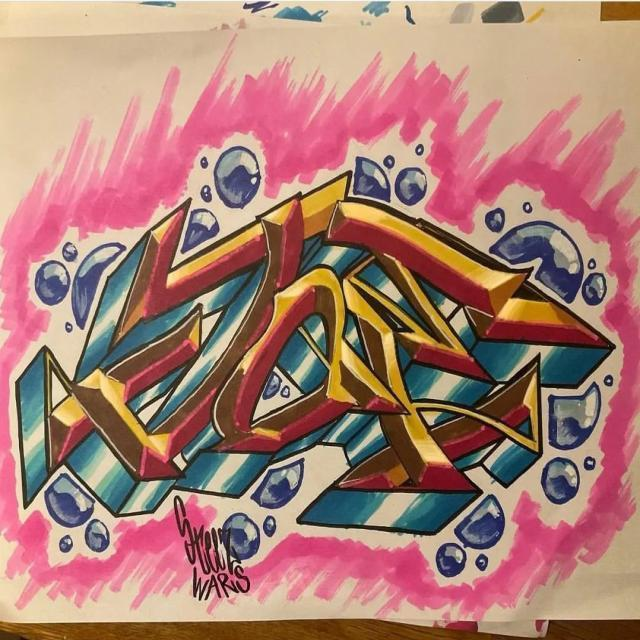nonspitting: (14, 143, 618, 603)
